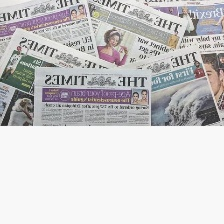news_paper: (0, 26, 118, 126), (135, 0, 224, 120), (110, 42, 223, 125), (31, 66, 153, 126), (0, 0, 101, 62), (93, 0, 189, 65)
